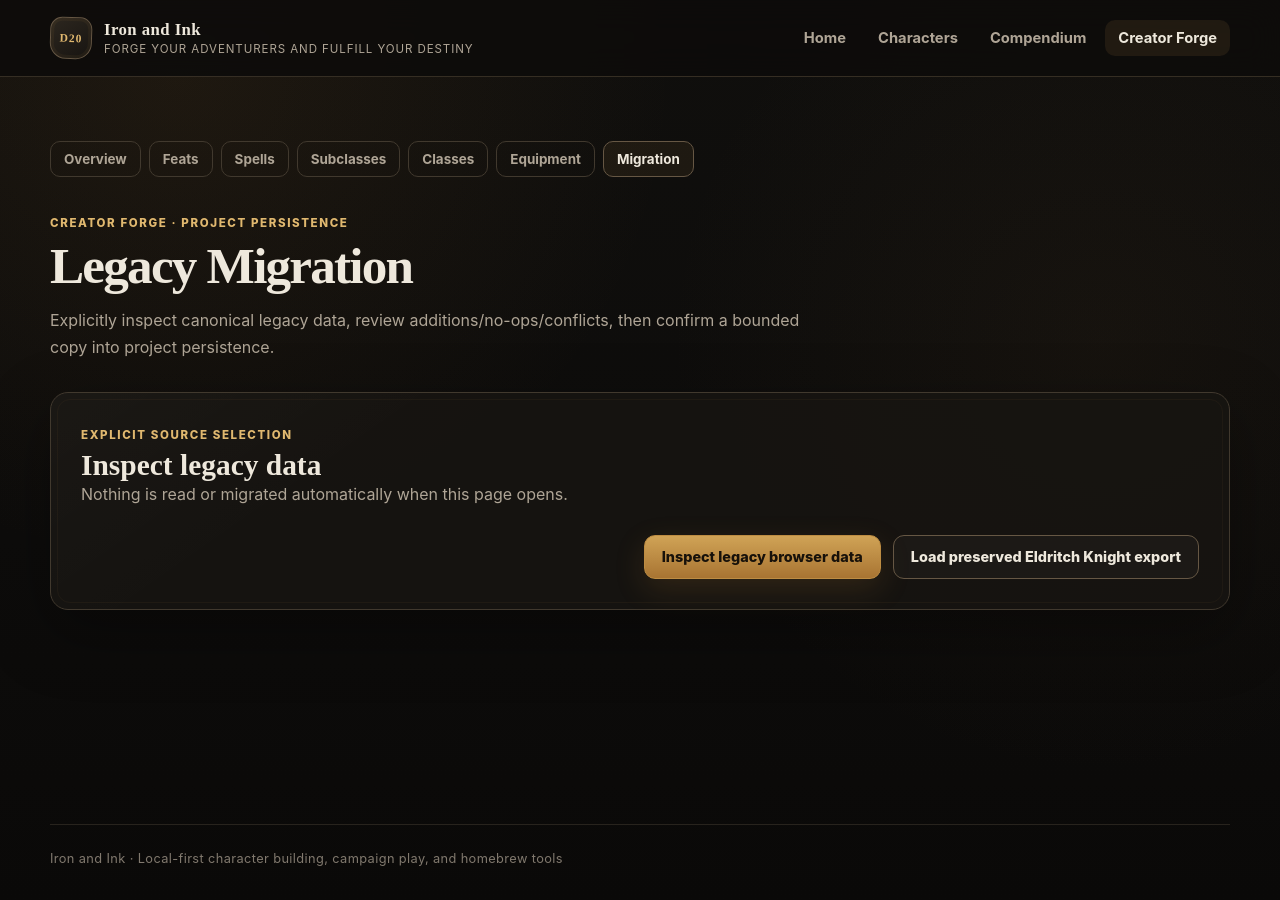
Scenario: Project Persistence Phase G application migration › A42. migration UI reports conflicts and blocks confirmation
Click the button "Inspect legacy browser data": (762, 557) [644, 535, 881, 579]
(page scrolled)
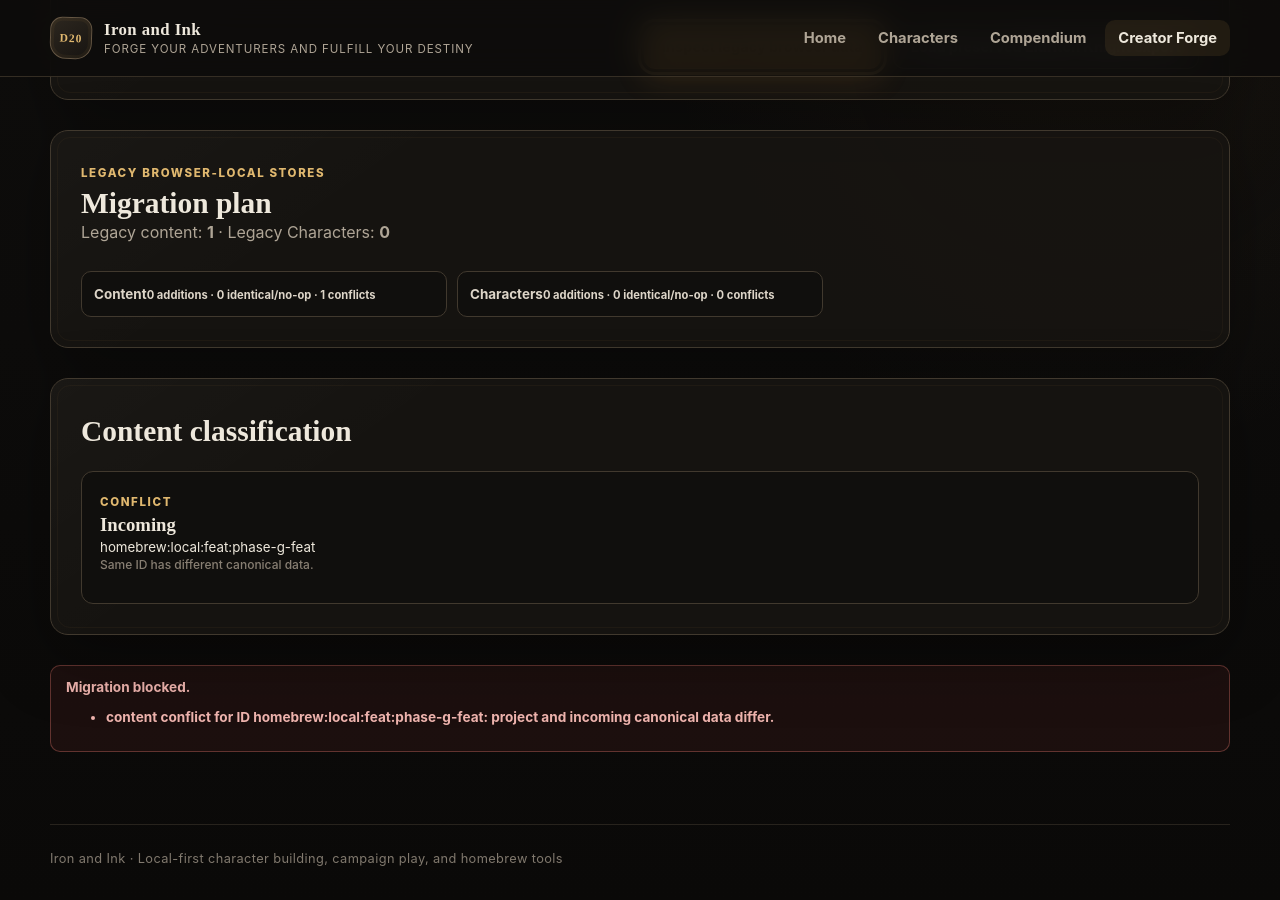
Expected: the message shows "Migration blocked", [66, 679, 190, 695]
